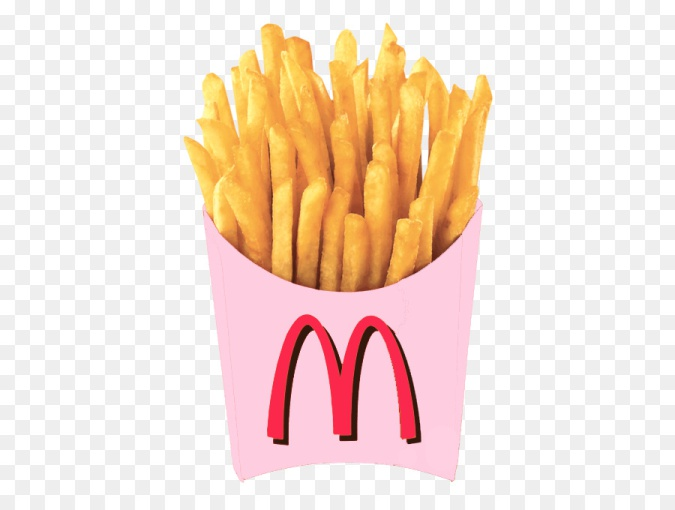mcdonalds: (259, 311, 429, 453)
